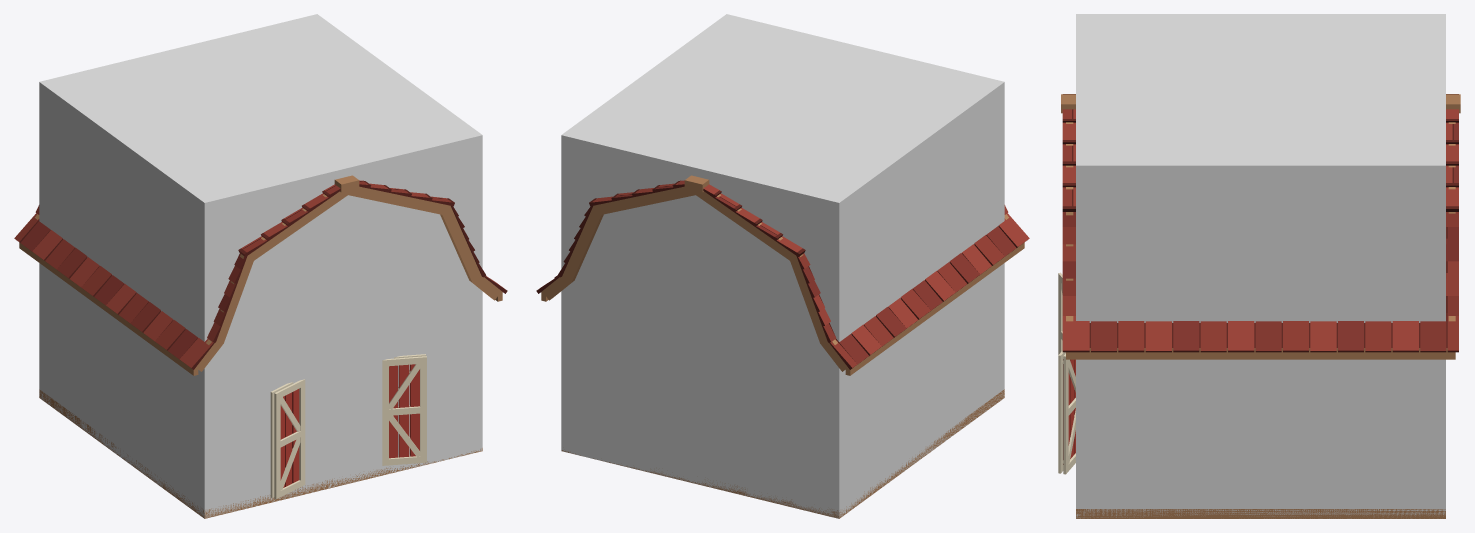
Rendered from FMS_Barn.fbx.
3 renders of one model, left to right at view 1: azimuth 30°, elevation 25°; view 2: azimuth 150°, elevation 25°; view 3: azimuth 270°, elevation 25°, orthographic. The views are drawn at different scales.
Visible parts, largest first — view 1: FMS_Barn_Col, FMS_Barn_LOD0, FMS_Barn_Door_R, FMS_Barn_Door_L; view 2: FMS_Barn_Col, FMS_Barn_LOD0; view 3: FMS_Barn_Col, FMS_Barn_LOD0, FMS_Barn_Door_R.
Boxes of the visible parts, <box> form: FMS_Barn_Col: <box>39,14,482,518</box>; FMS_Barn_LOD0: <box>14,175,507,518</box>; FMS_Barn_Door_R: <box>382,354,426,465</box>; FMS_Barn_Door_L: <box>270,379,305,499</box>; FMS_Barn_Col: <box>561,14,1004,518</box>; FMS_Barn_LOD0: <box>536,175,1029,518</box>; FMS_Barn_Col: <box>1076,14,1445,518</box>; FMS_Barn_LOD0: <box>1061,94,1460,518</box>; FMS_Barn_Door_R: <box>1058,350,1075,474</box>.
Size of what is drawn, in the model's own units: 7.44 by 7.1 by 7.33.
Materials: 1 (1 with a texture image).
